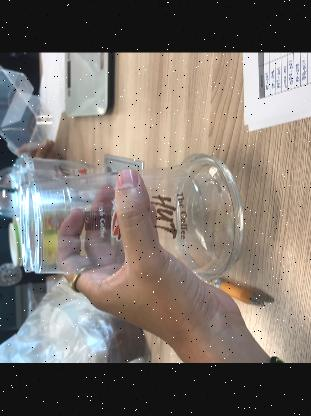Others: (7, 143, 256, 284)
